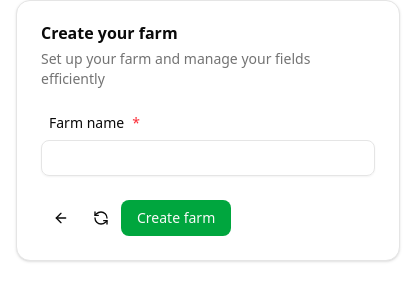
CreateFarmForm Tests › Name required error - clear name field
The image size is (417, 307).
In the field labelled "Farm name *": coordinates (208, 158) [41,140,375,176], type "Farm Name"
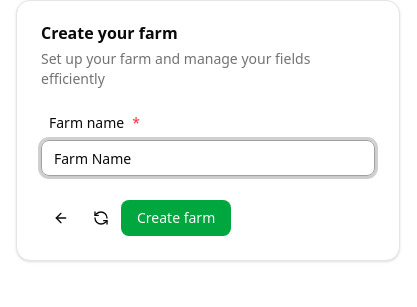
Clear the field labelled "Farm name *": coordinates (208, 158) [41,140,375,176]
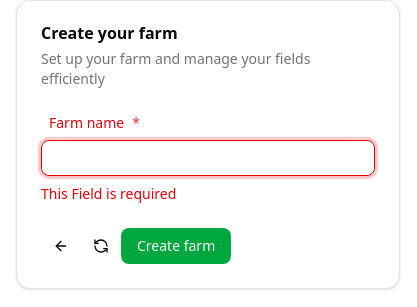
Expected: the text "This Field is required" is shown, [41,184,176,203]
